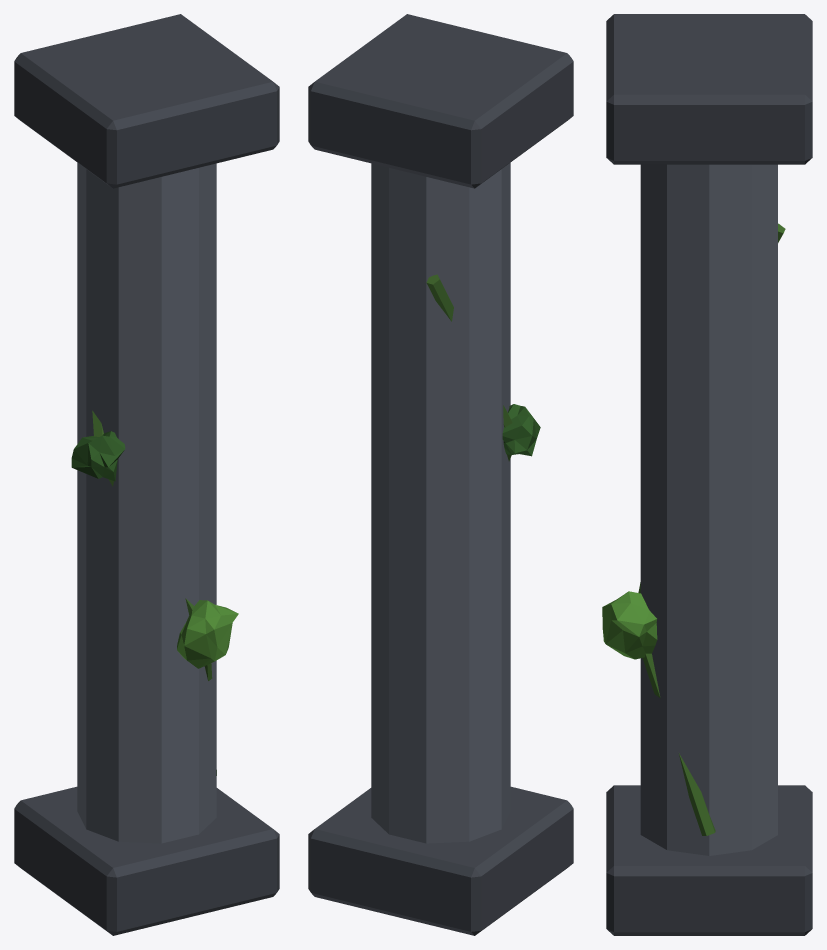
File: pillar.glb
3 views of the same model, side by side, from view 1: azimuth 30°, elevation 25°; view 2: azimuth 150°, elevation 25°; view 3: azimuth 270°, elevation 25° (orthographic). The views are drawn at different scales.
Parts seen in each view (by area): view 1: pillar; view 2: pillar; view 3: pillar.
Part boxes in pixels (x1,y1,x2,y2): pillar: [14, 14, 279, 935]; pillar: [308, 14, 573, 935]; pillar: [602, 14, 812, 935].
Size of the model in its own units: 0.8 by 3.6 by 0.8154.
